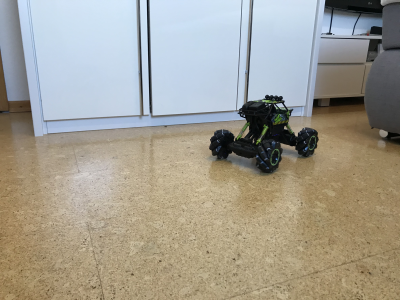remote control car: (206, 90, 321, 176)
